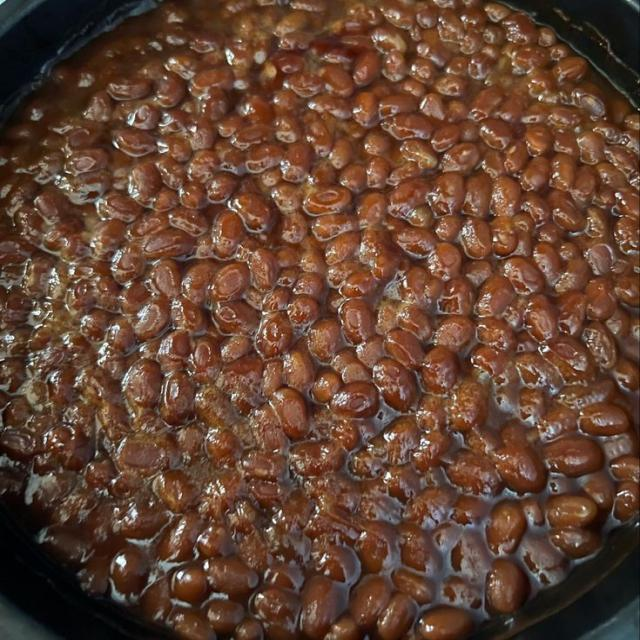beans: (0, 0, 639, 639), (301, 576, 345, 638), (446, 451, 503, 496), (493, 446, 546, 493), (544, 437, 604, 477), (373, 358, 417, 412), (486, 559, 529, 613), (254, 588, 300, 636), (349, 576, 390, 628), (486, 502, 526, 554), (208, 557, 258, 597), (271, 388, 308, 438), (419, 605, 473, 639), (377, 593, 416, 639), (421, 347, 458, 393), (331, 382, 378, 417), (546, 495, 597, 527), (580, 403, 628, 435), (209, 263, 249, 301), (551, 527, 600, 558)
